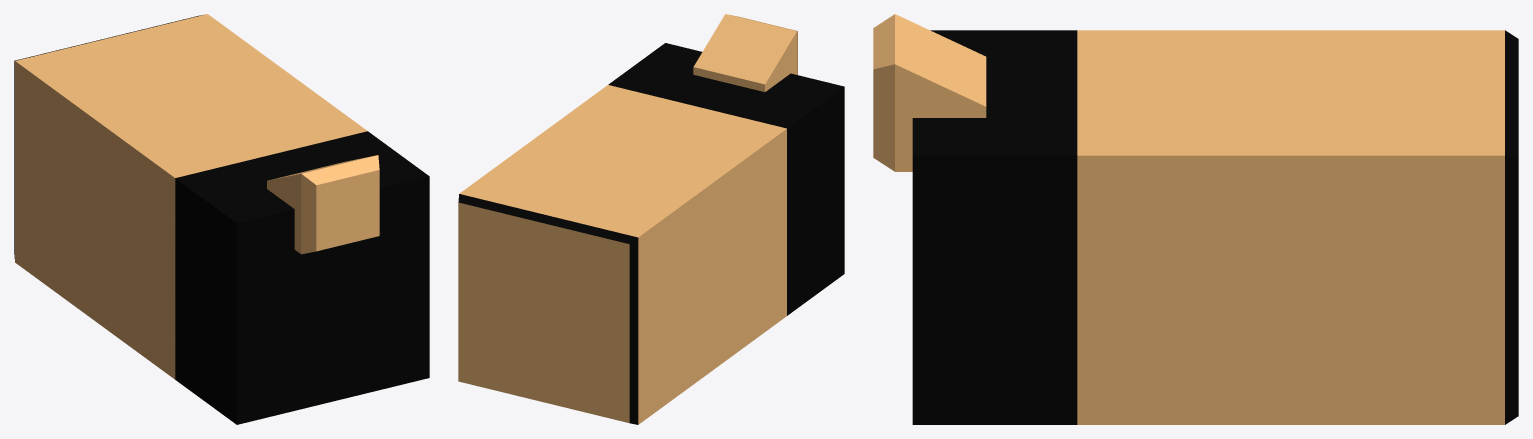
File: AmmoBox.fbx
The picture shows the model from 3 angles, left to right: view 1: azimuth 30°, elevation 25°; view 2: azimuth 150°, elevation 25°; view 3: azimuth 270°, elevation 25°; orthographic projection. The views are drawn at different scales.
Parts seen in each view (by area): view 1: AmmoBox; view 2: AmmoBox; view 3: AmmoBox.
Part boxes in pixels (<box>): AmmoBox: <box>14,14,429,424</box>; AmmoBox: <box>458,14,844,424</box>; AmmoBox: <box>873,14,1518,424</box>.
Size of the model in its own units: 200 by 240 by 435.
